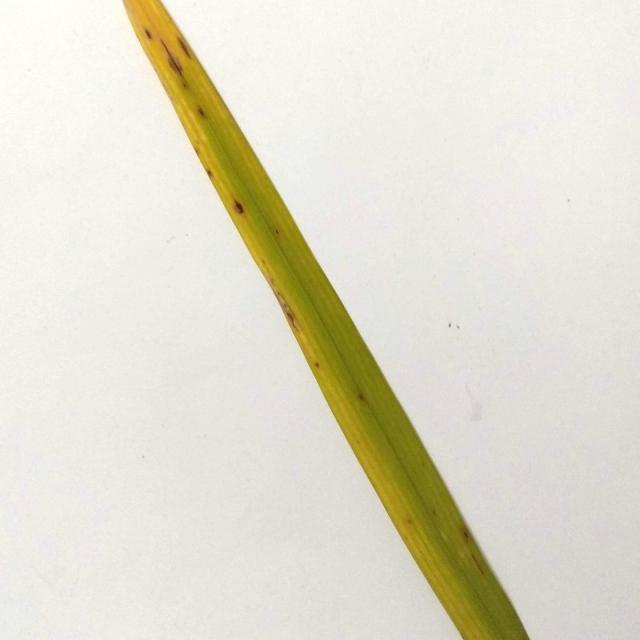Brown spot: (258, 254, 303, 338), (160, 40, 191, 85), (173, 29, 195, 63), (464, 549, 486, 579), (140, 20, 157, 44), (400, 511, 418, 530), (227, 196, 244, 214), (190, 103, 208, 119), (204, 164, 220, 182), (352, 388, 368, 405), (458, 522, 470, 540), (427, 505, 440, 517), (274, 228, 283, 242), (313, 359, 322, 370), (194, 147, 202, 158)
